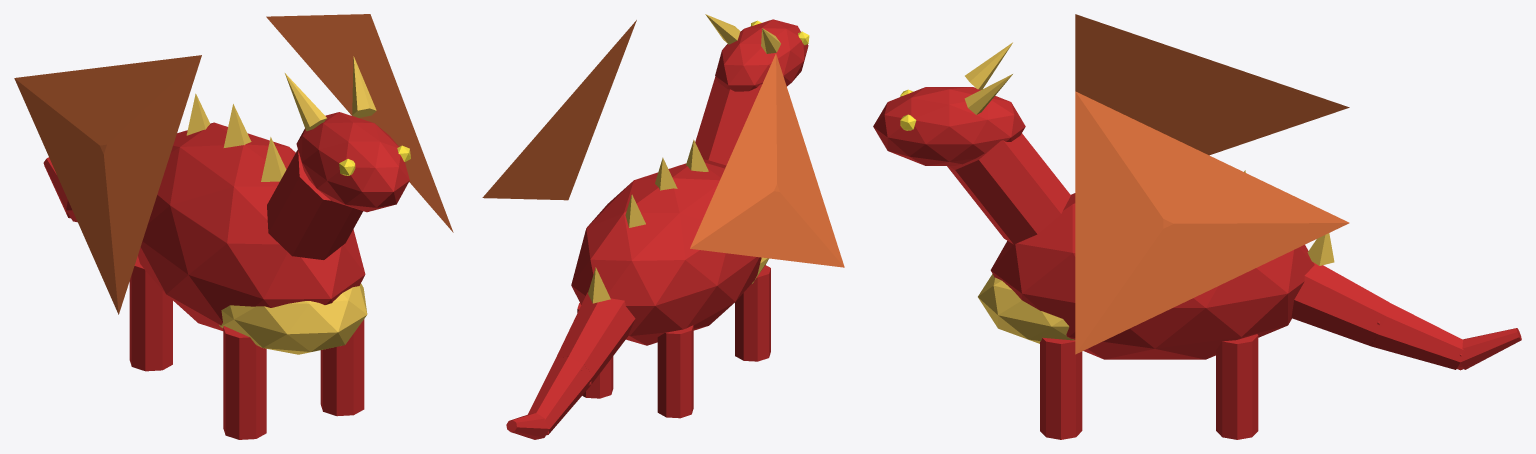
File: Dragon.fbx
The picture shows the model from 3 angles, left to right: view 1: azimuth 30°, elevation 25°; view 2: azimuth 150°, elevation 25°; view 3: azimuth 270°, elevation 25°; orthographic projection. The views are drawn at different scales.
Parts seen in each view (by area): view 1: Scales, Wings, Belly, Horns; view 2: Scales, Wings, Horns; view 3: Wings, Scales, Belly, Horns.
Boxes of the visible parts, bbox=[...] form: Scales: bbox=[43, 112, 409, 439]; Wings: bbox=[14, 14, 453, 314]; Belly: bbox=[219, 283, 367, 354]; Horns: bbox=[186, 56, 376, 181]; Scales: bbox=[506, 19, 808, 439]; Wings: bbox=[482, 20, 844, 267]; Horns: bbox=[588, 14, 780, 303]; Wings: bbox=[1075, 14, 1349, 354]; Scales: bbox=[873, 87, 1521, 439]; Belly: bbox=[978, 274, 1074, 343]; Horns: bbox=[964, 42, 1334, 265].
Size of the model in its own units: 3.09 by 3.34 by 5.52.
